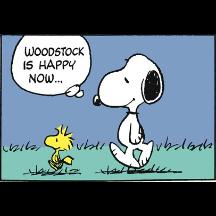snoopy: (93, 53, 165, 169)
